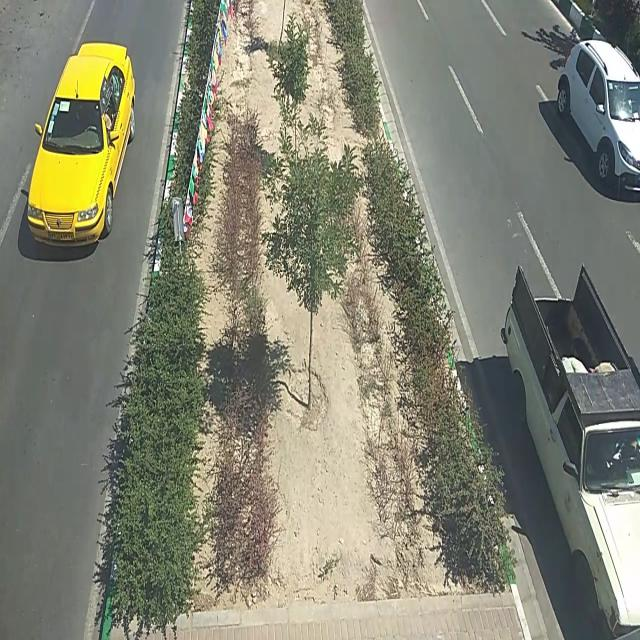car: (497, 265, 640, 635), (25, 44, 139, 250), (557, 38, 640, 190)
